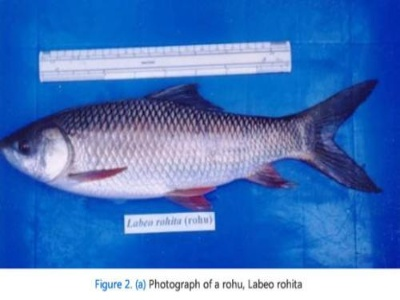rohu: (1, 73, 392, 211)
